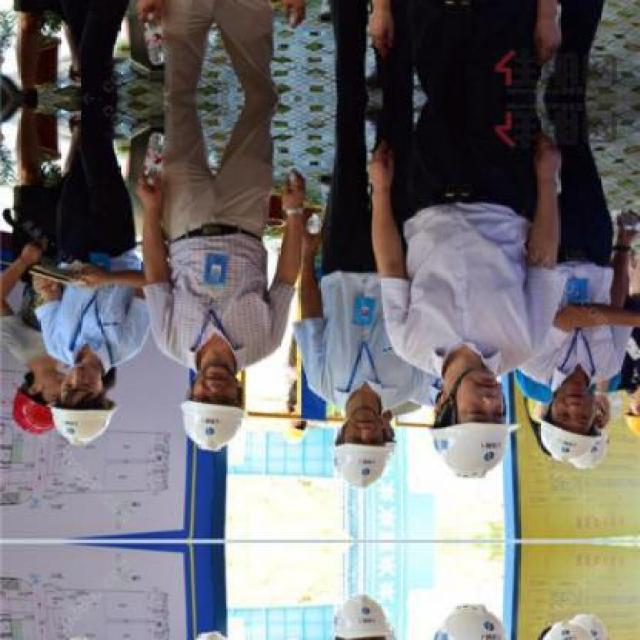safetyhelmet: (431, 421, 516, 477), (181, 399, 244, 449), (51, 402, 116, 444), (334, 595, 393, 639), (541, 417, 598, 461), (334, 442, 389, 487), (434, 604, 504, 639), (13, 390, 53, 433), (571, 428, 609, 467), (570, 613, 607, 639), (542, 621, 592, 639), (284, 424, 306, 443), (625, 413, 639, 435), (196, 630, 227, 639)
